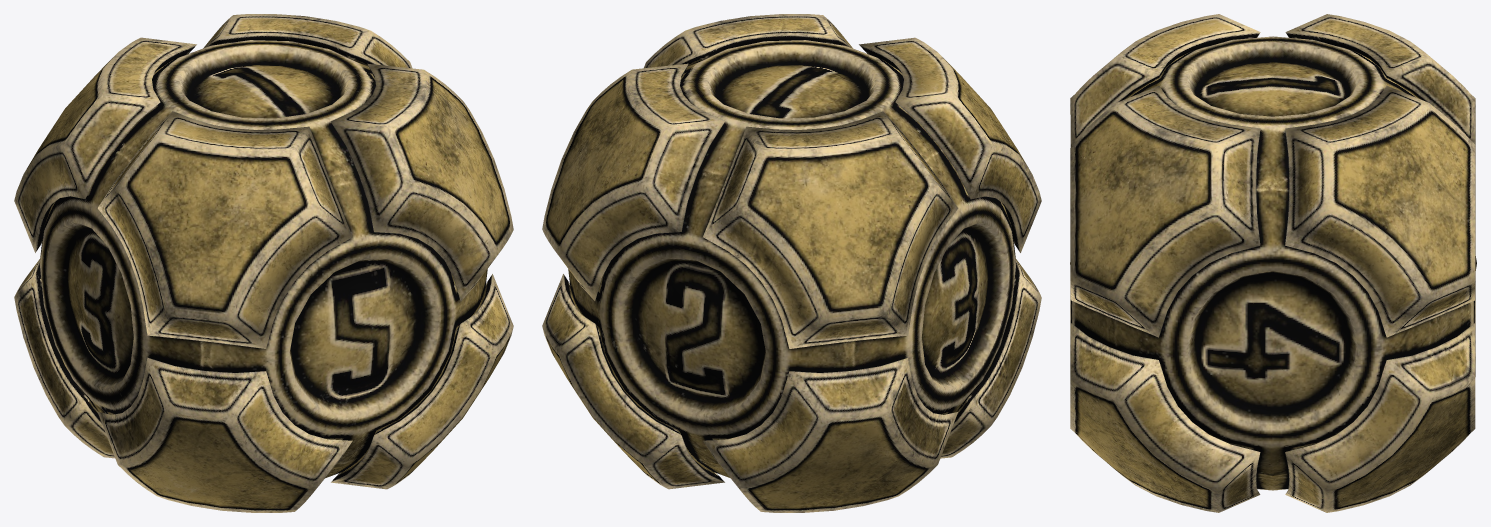
The model's file is BrassCore.glb.
3 views of the same model, side by side, from view 1: azimuth 30°, elevation 25°; view 2: azimuth 150°, elevation 25°; view 3: azimuth 270°, elevation 25° (orthographic).
Visible parts, largest first — view 1: Cube; view 2: Cube; view 3: Cube.
Part boxes in pixels (left/top/right/bottom): Cube: left=14, top=14, right=513, bottom=512; Cube: left=542, top=14, right=1041, bottom=512; Cube: left=1070, top=14, right=1476, bottom=512.
Bounding box in the file's own units: 0.5139 × 0.5136 × 0.5141.
Materials: 1 (1 with a texture image).
